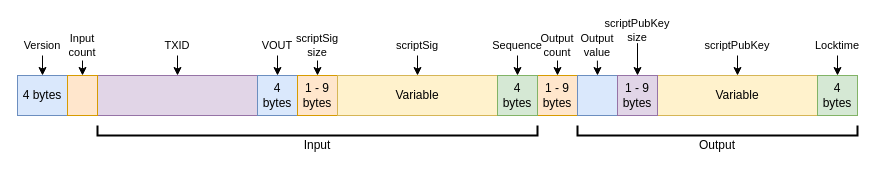
This 880x172 diagram has some shape labels left out. Here are the shapes that lost their labels. From the top down, the centre of each, then its label:
At point (82, 95): "1 byte".
At point (177, 95): "32 bytes".
At point (597, 95): "8 bytes".
